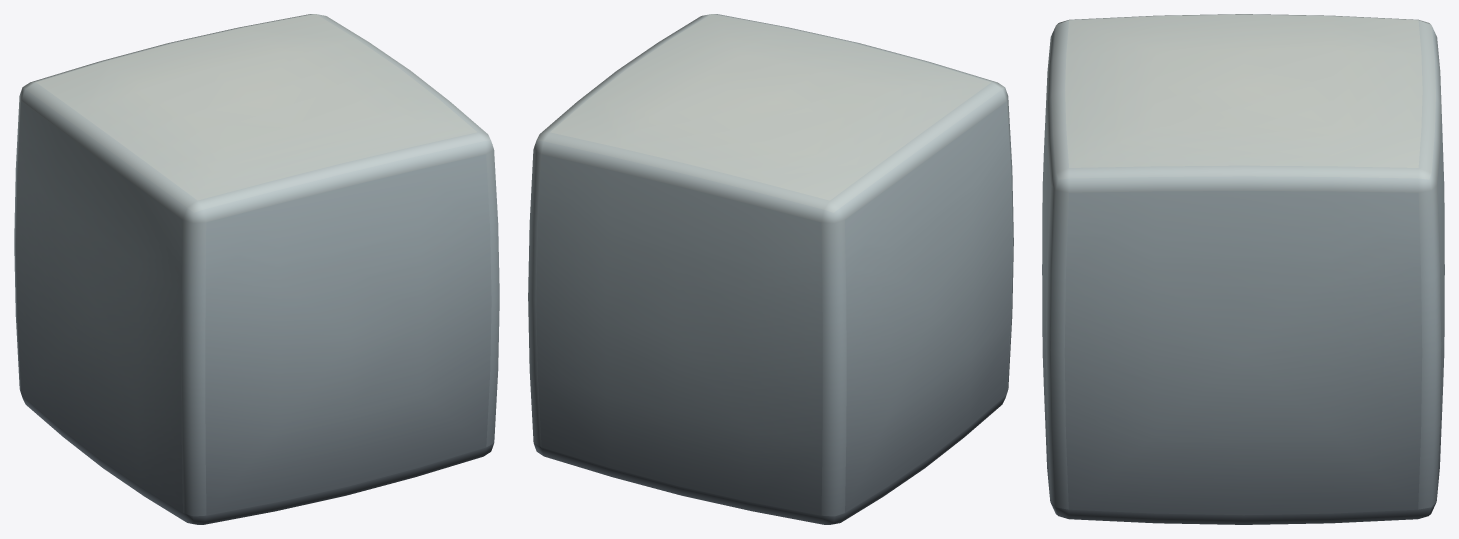
The model's file is Quartz_Plain_Dark.fbx.
3 views of the same model, side by side, from view 1: azimuth 30°, elevation 25°; view 2: azimuth 150°, elevation 25°; view 3: azimuth 270°, elevation 25° (orthographic). The views are drawn at different scales.
Visible parts, largest first — view 1: Quartz_Plain_Dark_LOD0; view 2: Quartz_Plain_Dark_LOD0; view 3: Quartz_Plain_Dark_LOD0.
Boxes of the visible parts, x1,y1,x2,y2 form: Quartz_Plain_Dark_LOD0: [14, 14, 499, 524]; Quartz_Plain_Dark_LOD0: [528, 14, 1013, 524]; Quartz_Plain_Dark_LOD0: [1042, 14, 1444, 524].
Size of what is drawn, in the model's own units: 1.09 by 1.09 by 1.09.
